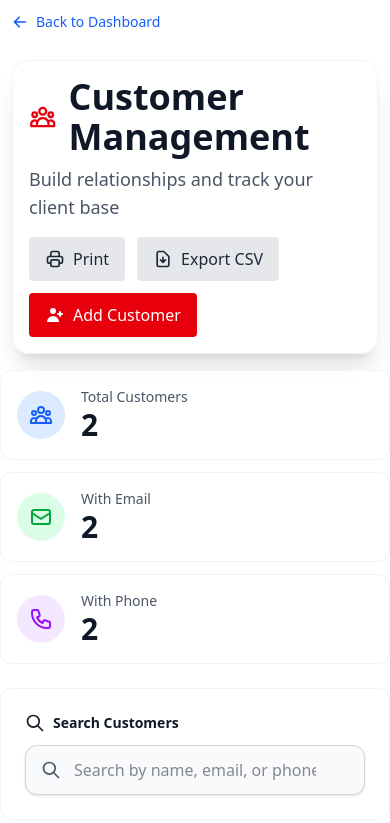
it: CustomersPage Integration › Create Customer › should open create customer form
Expected: the text "Add Customer" is shown, [45,303,181,327]
Click the button "Add Customer". click: (113, 315)
box: [29,293,197,337]
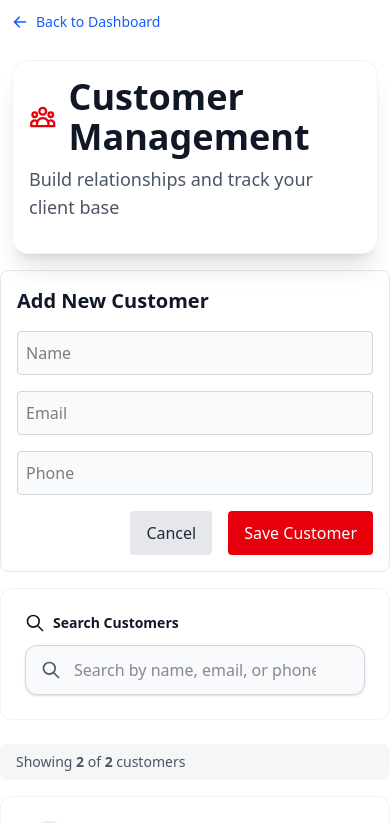
Expected: the field with placeholder "Name" is shown, [17,331,373,375]
Expected: the field with placeholder "Email" is shown, [17,391,373,435]
